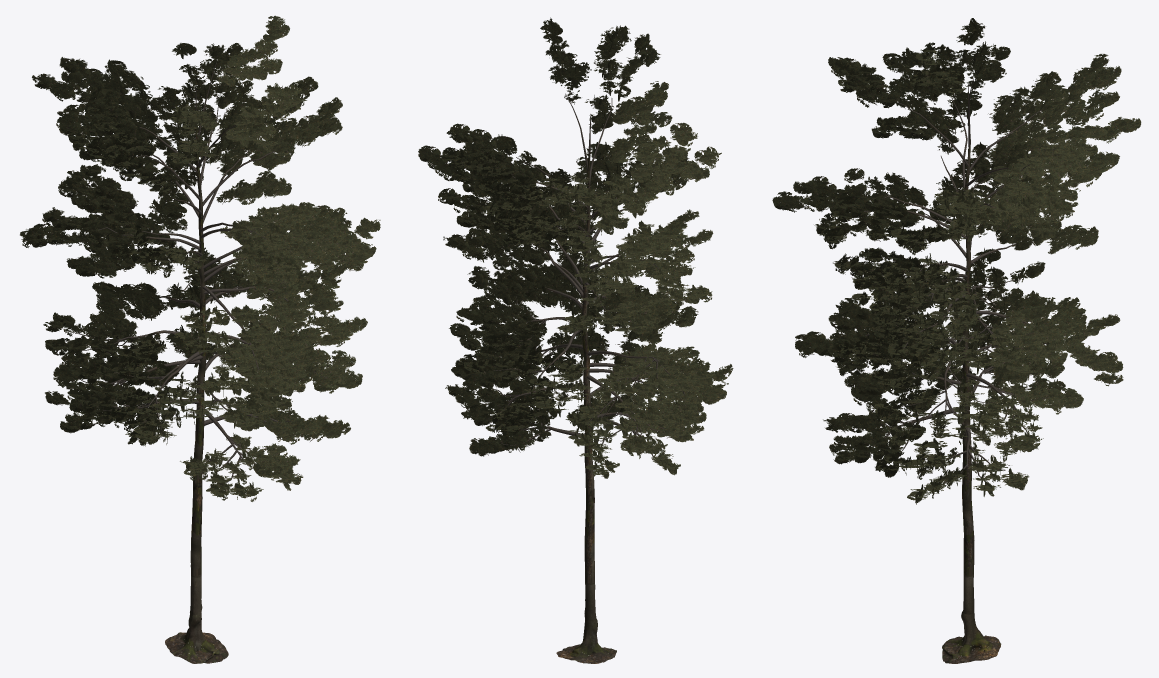
Rendered from scots_pine_b.glb.
The picture shows the model from 3 angles, left to right: view 1: azimuth 30°, elevation 25°; view 2: azimuth 150°, elevation 25°; view 3: azimuth 270°, elevation 25°; orthographic projection. The views are drawn at different scales.
Parts seen in each view (by area): view 1: scots_pine_b_LOD0; view 2: scots_pine_b_LOD0; view 3: scots_pine_b_LOD0.
Part boxes in pixels (x1,y1,x2,y2): scots_pine_b_LOD0: (20, 15, 380, 663); scots_pine_b_LOD0: (418, 17, 733, 663); scots_pine_b_LOD0: (772, 18, 1141, 663).
Size of what is drawn, in the model's own units: 7.56 by 15 by 7.94.
Materials: 2 (2 with a texture image).
